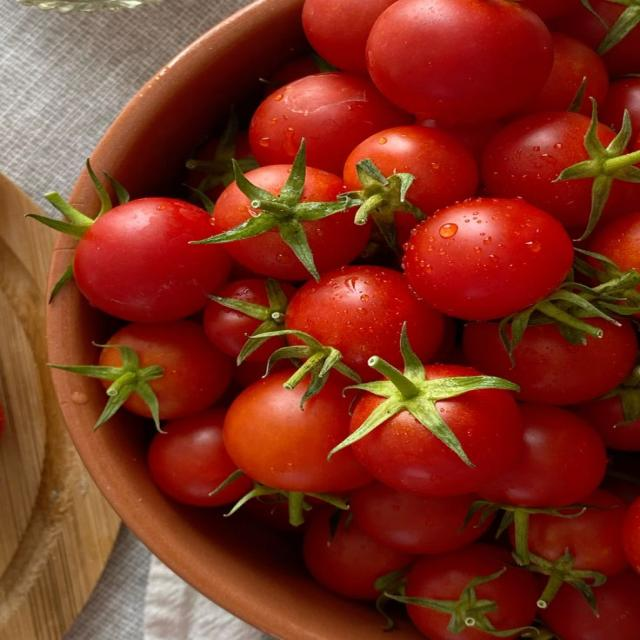tomato: (367, 0, 553, 122), (403, 198, 573, 320), (74, 198, 231, 322), (352, 389, 522, 497), (286, 265, 443, 379), (224, 370, 370, 492), (249, 72, 412, 174), (463, 318, 638, 405), (481, 111, 593, 234), (476, 403, 606, 508), (406, 543, 538, 639), (107, 320, 233, 419), (344, 124, 478, 215), (350, 481, 493, 554), (147, 408, 253, 506), (303, 508, 415, 600), (527, 489, 628, 576), (520, 32, 609, 114), (540, 570, 639, 639), (302, 0, 395, 73), (203, 278, 284, 357), (300, 210, 370, 273), (549, 0, 636, 50), (569, 393, 639, 451), (587, 209, 639, 272), (600, 77, 639, 140), (622, 498, 639, 573), (519, 0, 579, 21)
